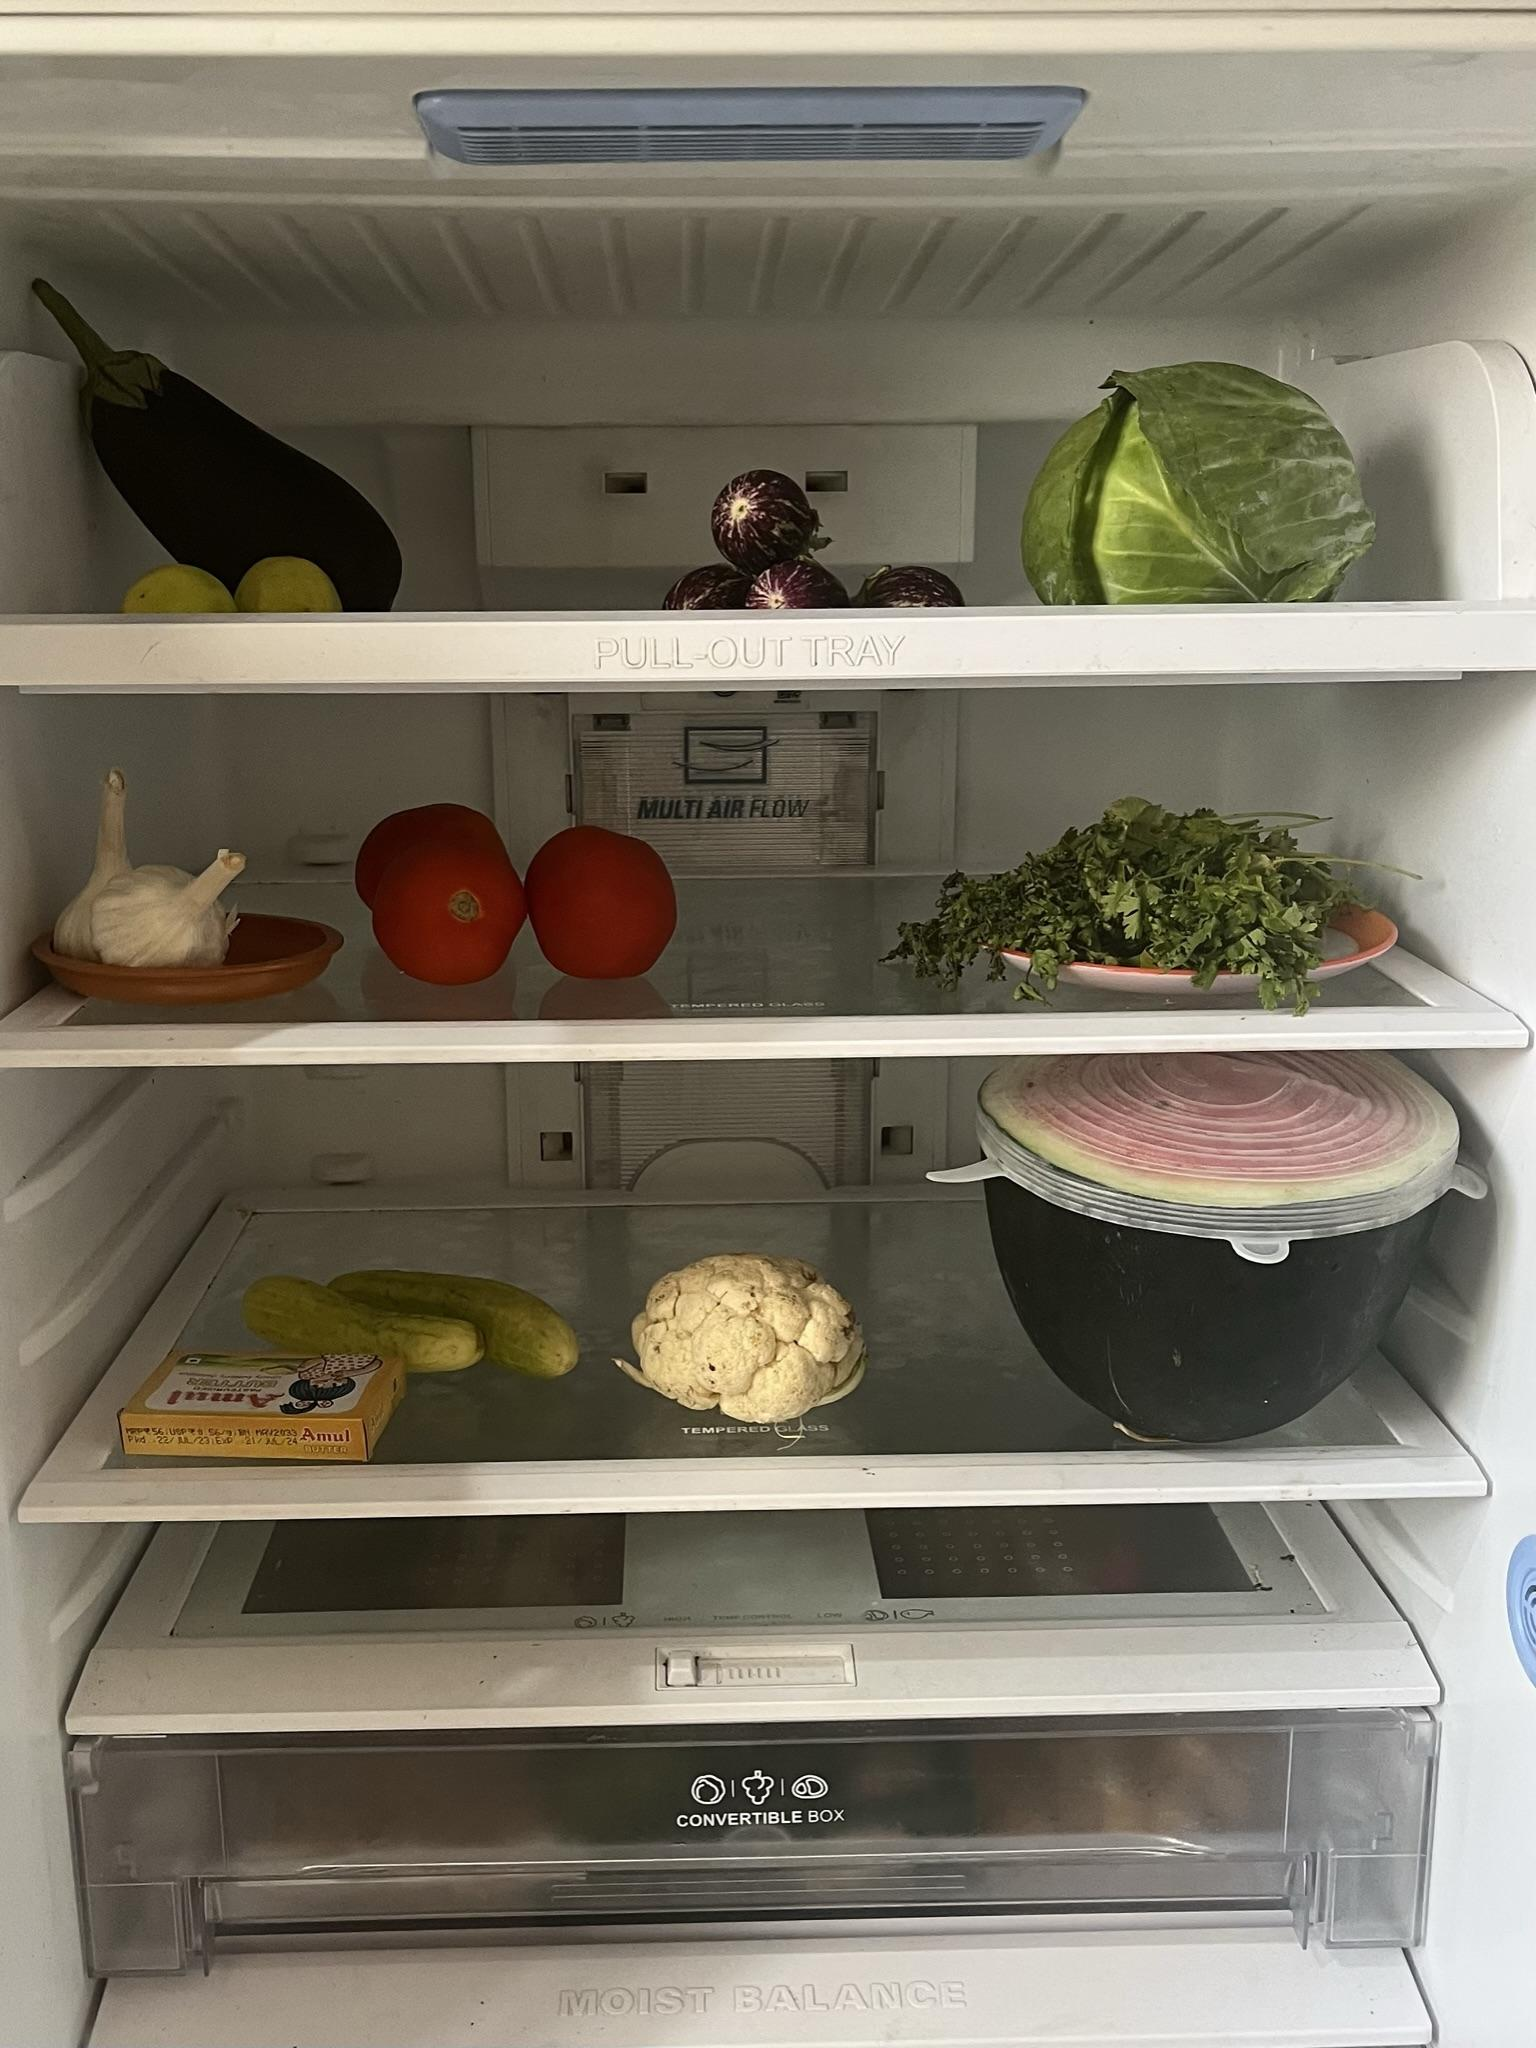bringal: (27, 293, 403, 610), (637, 463, 991, 603)
butter: (119, 1350, 397, 1450)
cabbage: (1029, 353, 1370, 600)
cauliflower: (634, 1253, 857, 1416)
coriander: (929, 806, 1394, 1003)
cucumber: (247, 1263, 573, 1366)
garlic: (56, 763, 244, 959)
lemon: (123, 547, 334, 616)
tomato: (357, 803, 679, 980)
watermelon: (987, 1059, 1467, 1437)
